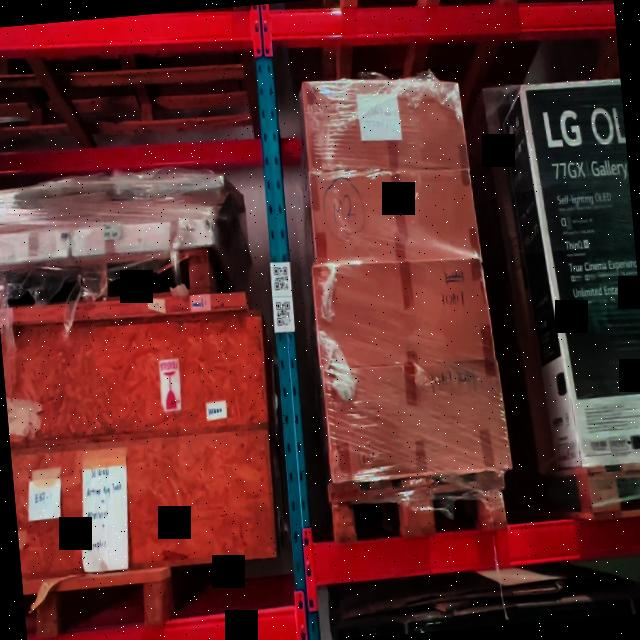box: (323, 359, 506, 483), (313, 257, 487, 367), (304, 80, 466, 176), (311, 170, 476, 263)
